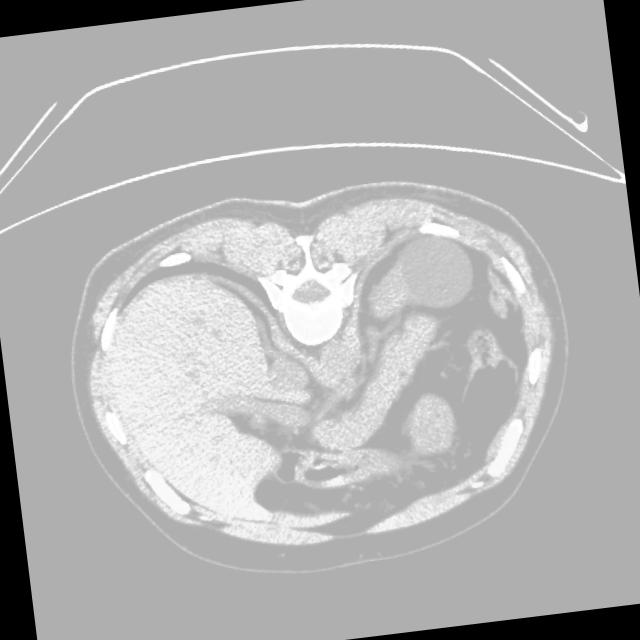cysts: (51, 158, 590, 591)
